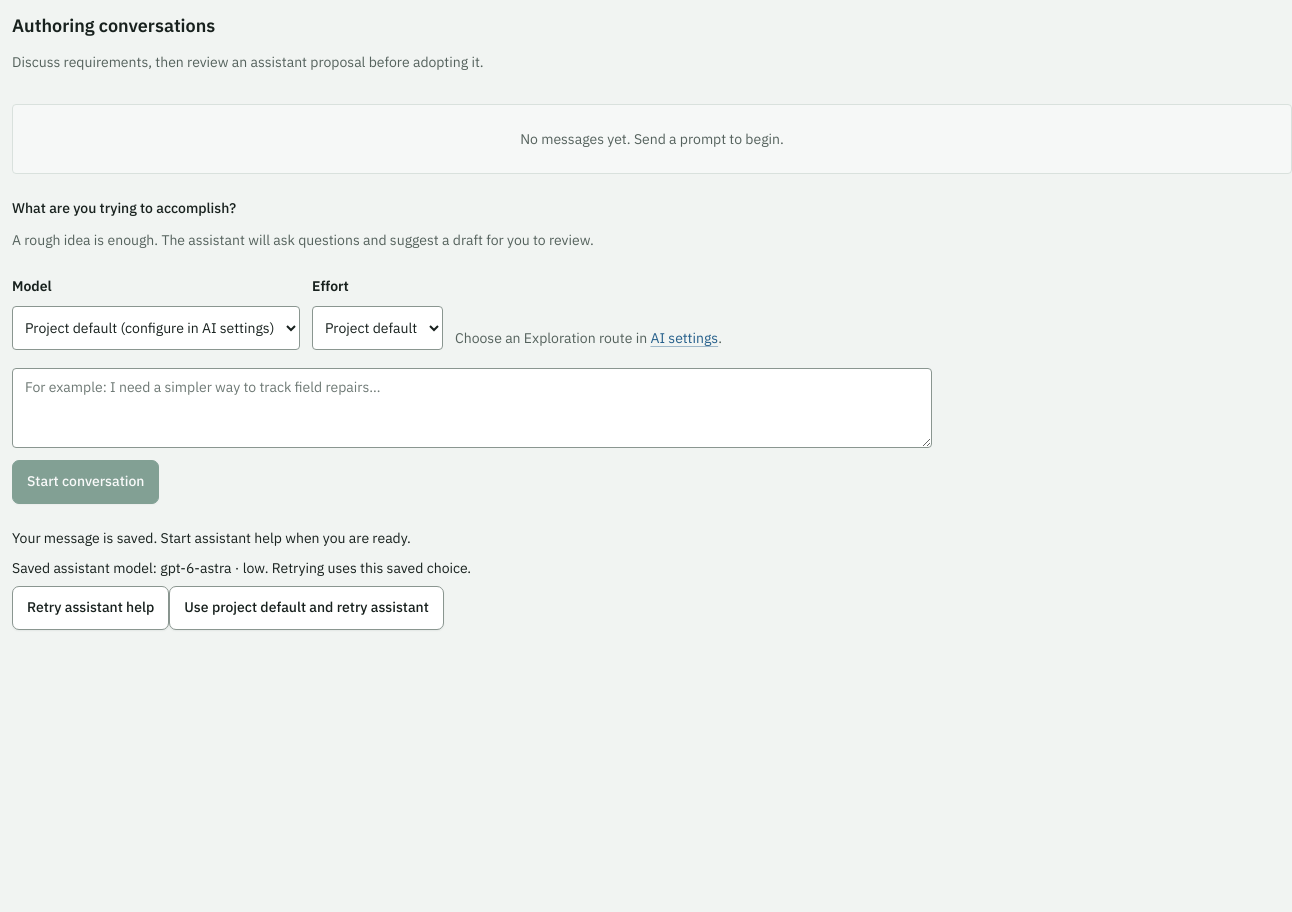
Test: AuthoringWorkspace › changing epic and project on the same workspace does not show the old saved-route recovery
The image size is (1292, 912).
Expected: the text "Saved assistant model: gpt-6-astra · low" is shown, [12,559,471,577]
Step 1. Click the button "Retry assistant help" → click(91, 608), box [12,586,169,630]
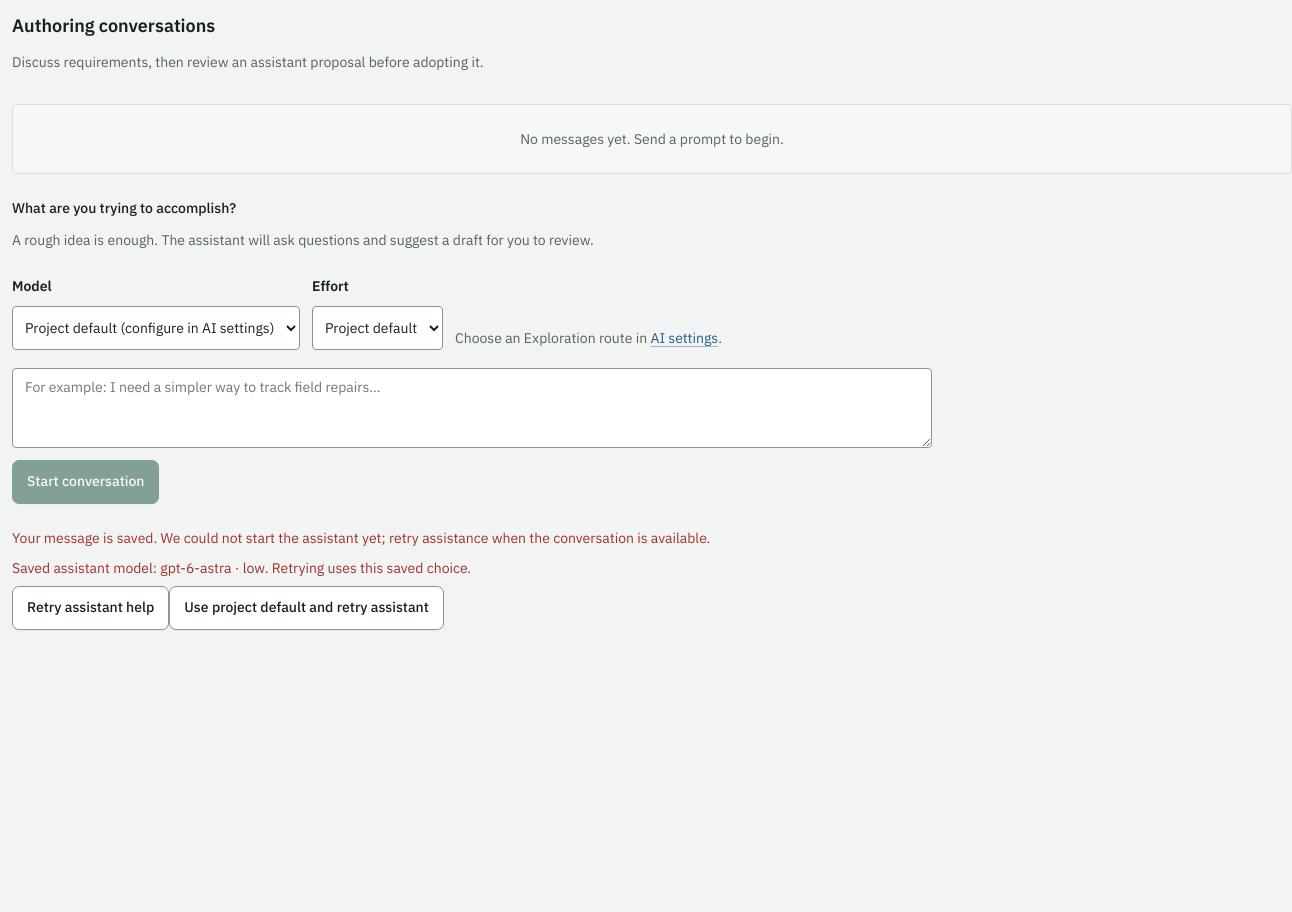
Expected: the text "We could not start the assistant yet" is shown, [12,529,710,547]
